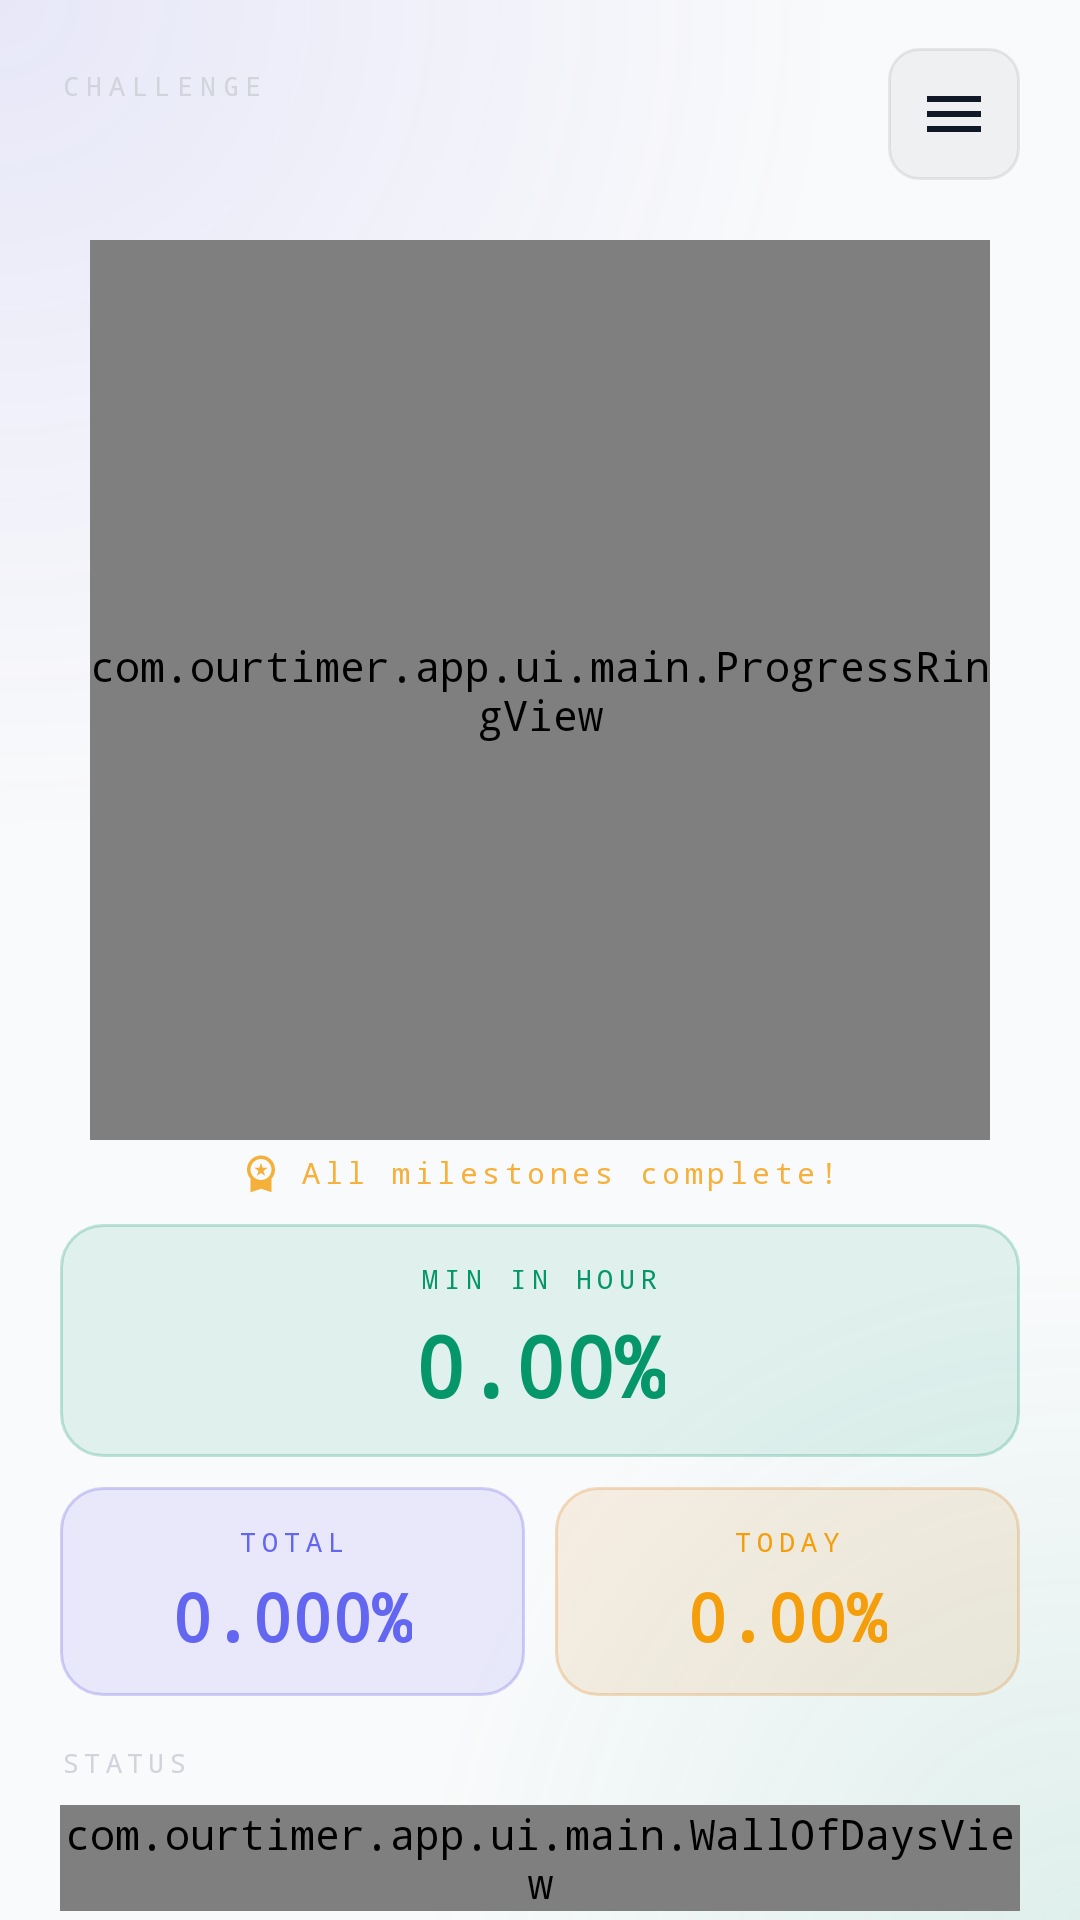

Point at icon controls on the screen. Image size 1080 x 1920, points as (x=x, y=y).
Menu: (x=954, y=114)
